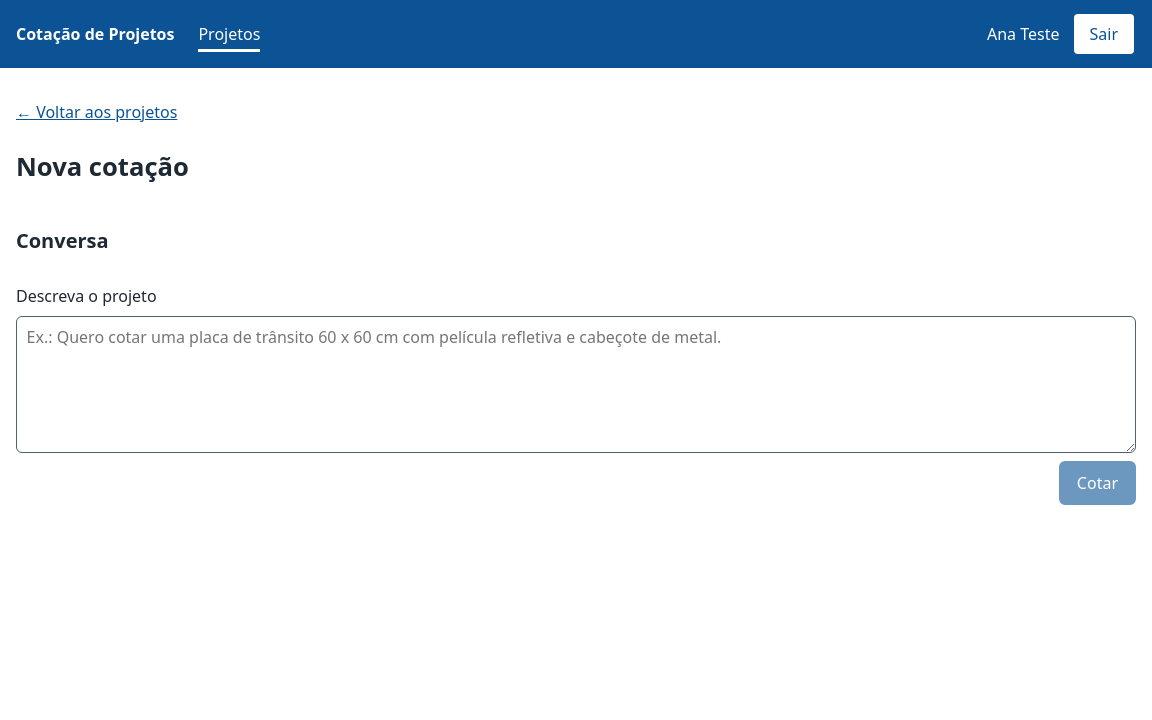
Scenario: Nova cotação › envia a descrição, mostra a resposta em streaming e abre o projeto cotado
Type "Placa de trânsito 60x60" into the text box labelled "Descreva o projeto". click: x=576, y=385
box: [16,316,1136,453]
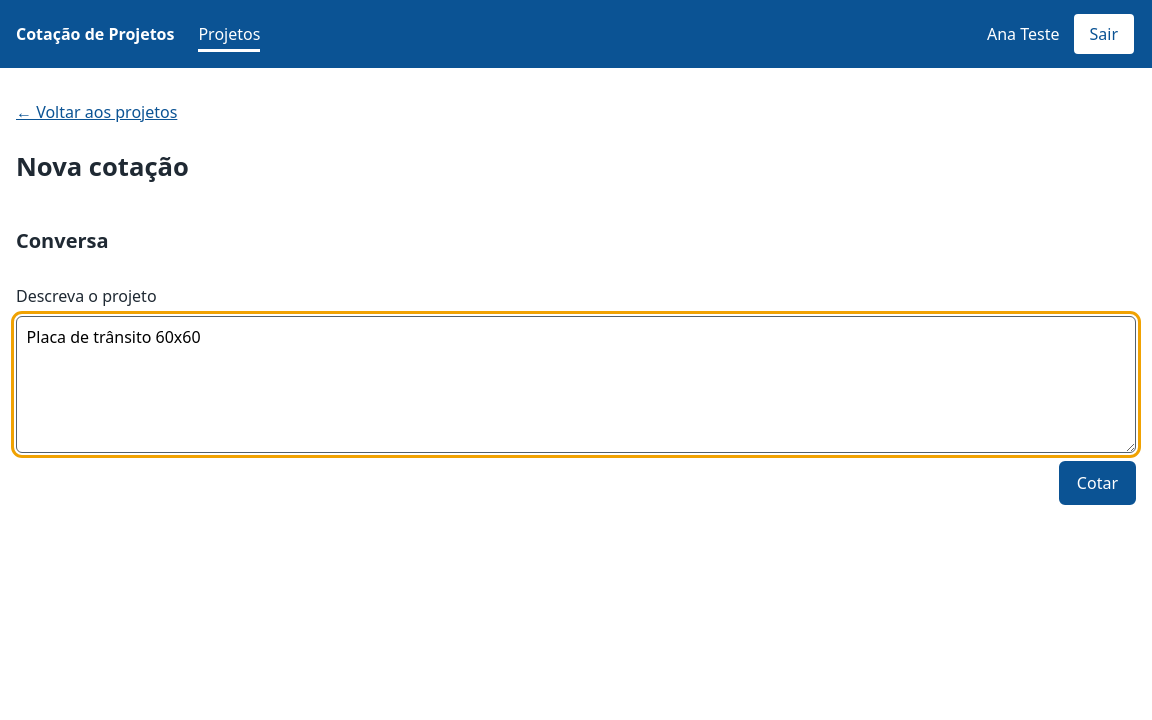
Click the button "Cotar". click: x=1097, y=483
box: [1059,461,1136,505]
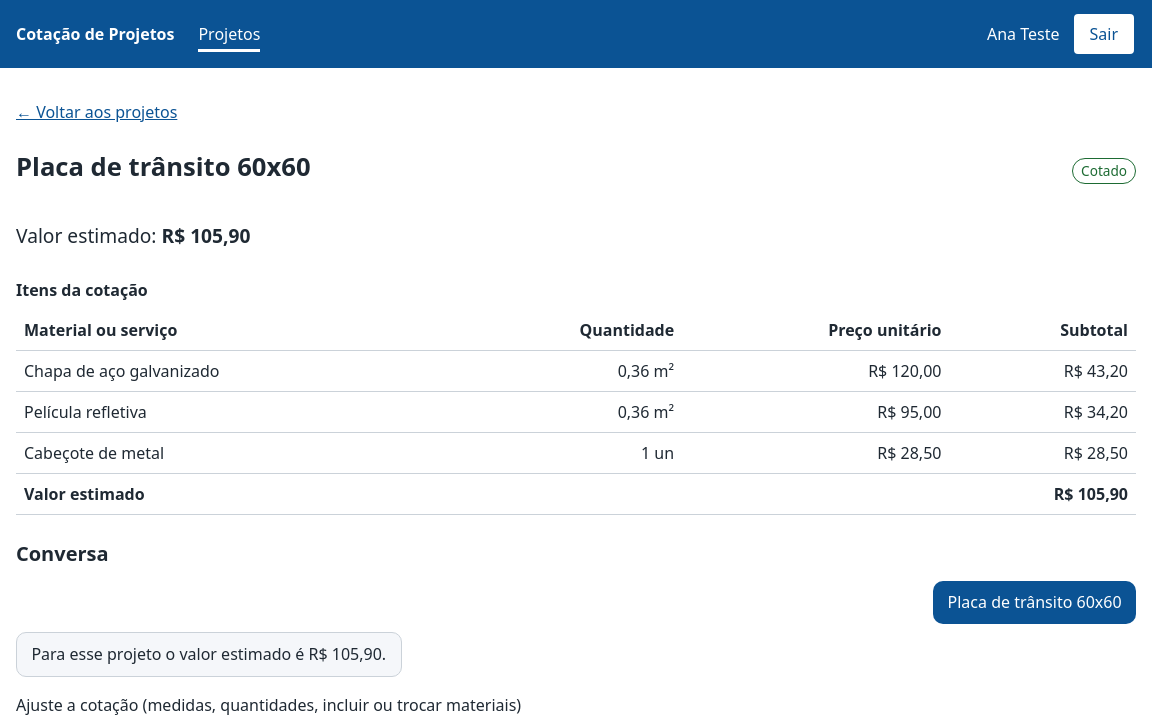
Check: the text "Película refletiva" is shown, box [16,391,453,432]
Check: the text "0,36 m²" is shown 2 times, box [453,350,682,391]; [453,391,682,432]
Check: the text "R$ 105,90" is shown, box [950,473,1136,514]
